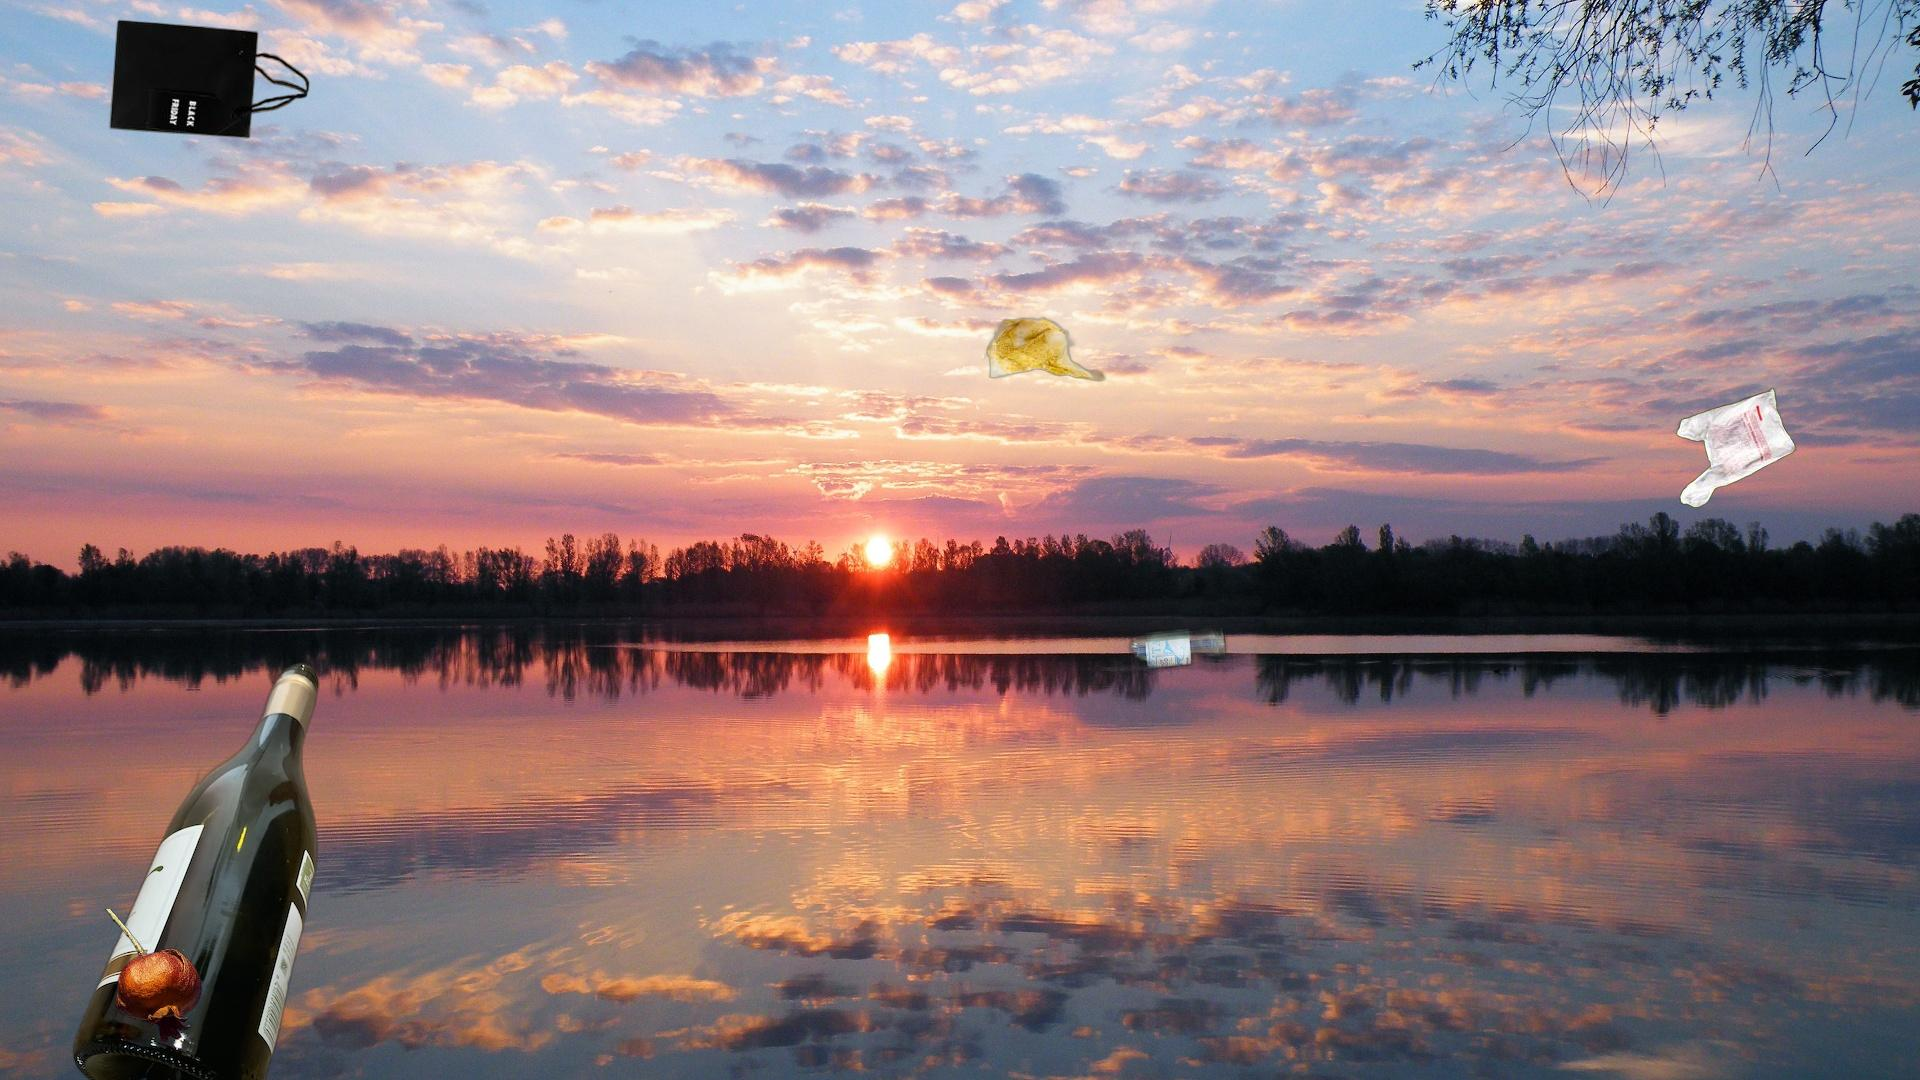biological: (102, 909, 204, 1046)
glass: (69, 655, 324, 1080), (1124, 620, 1249, 684)
paper-bag: (99, 18, 310, 185)
plastic-bag: (1673, 386, 1799, 510)
trash: (981, 314, 1110, 384)
